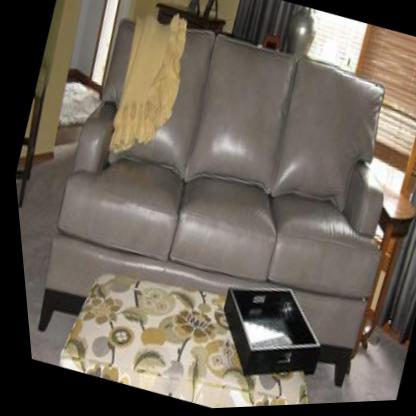Sofa: (1, 0, 416, 416)
Table: (40, 231, 334, 415)
